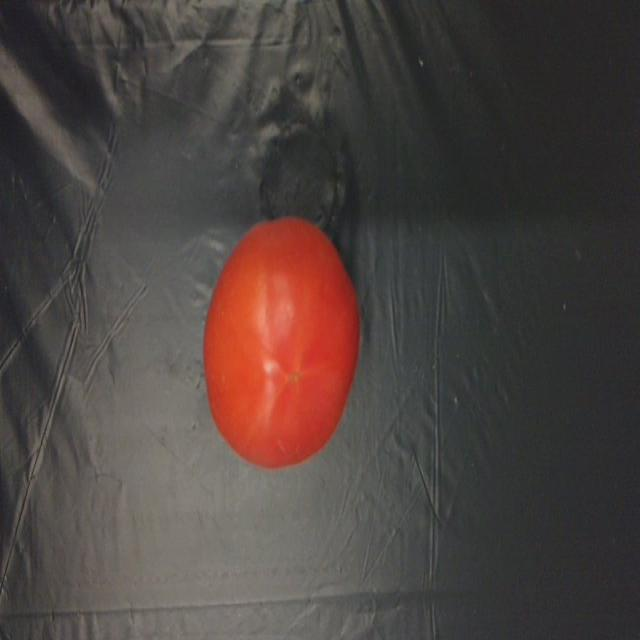kirmizi: (197, 206, 376, 482)
